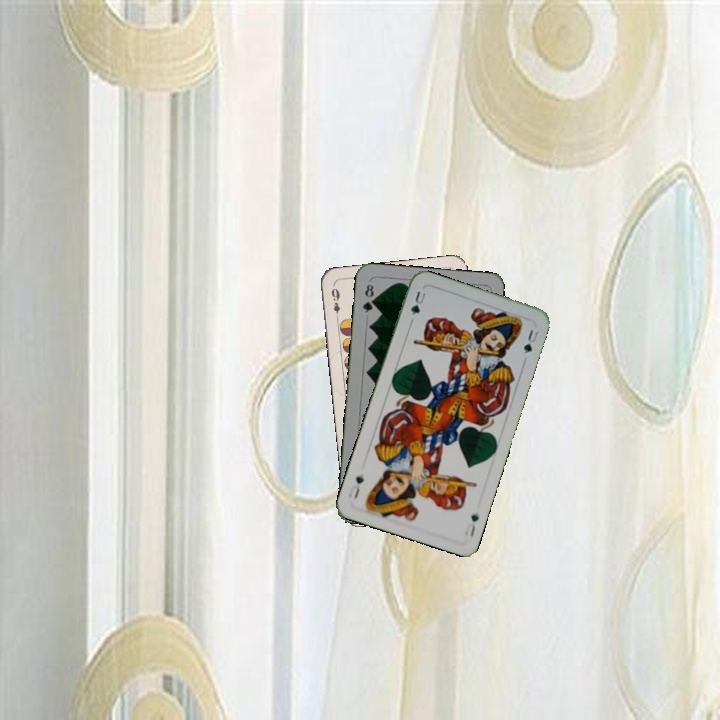E9: (327, 282, 342, 323)
G8: (358, 278, 377, 315)
GU: (406, 287, 428, 324), (461, 510, 481, 539)
